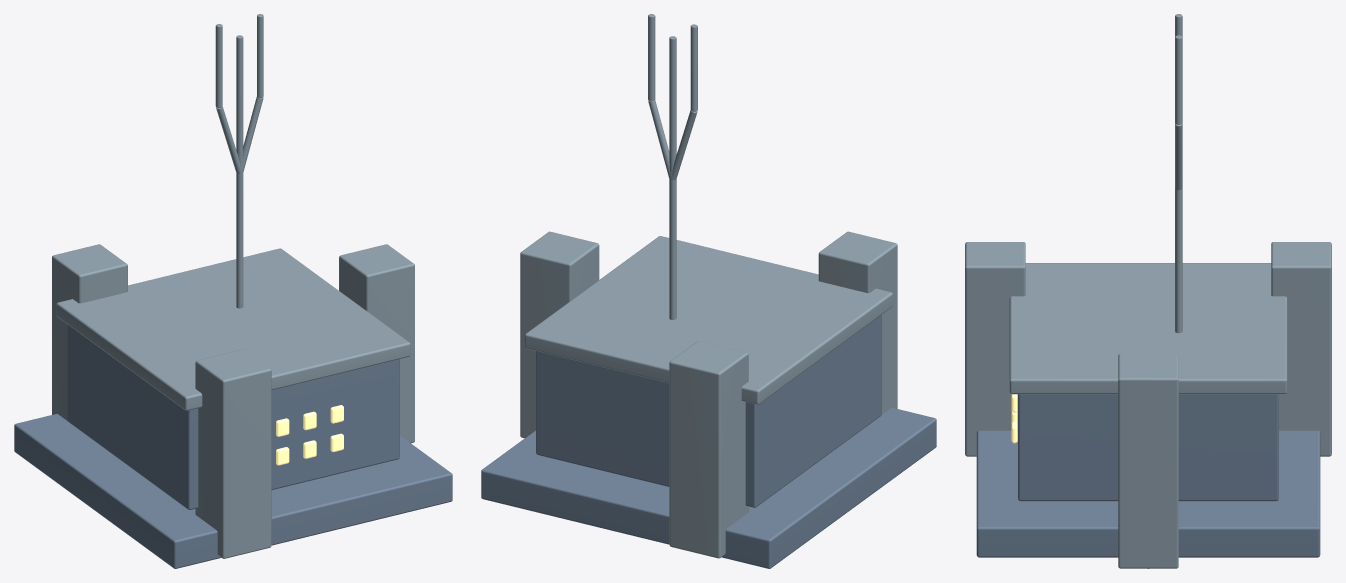
The picture shows the model from 3 angles, left to right: view 1: azimuth 30°, elevation 25°; view 2: azimuth 150°, elevation 25°; view 3: azimuth 270°, elevation 25°; orthographic projection. The views are drawn at different scales.
Visible parts, largest first — view 1: Block roof ledge, Modular block storey, Foundation slab, Block buttress.002, Block buttress, Block buttress.001, Aerial stem, Aerial fork tine, Aerial fork tine.001; view 2: Block roof ledge, Modular block storey, Foundation slab, Block buttress.001, Block buttress, Block buttress.002, Aerial stem, Aerial fork tine, Aerial fork tine.001; view 3: Block roof ledge, Foundation slab, Modular block storey, Block buttress, Block buttress.001, Block buttress.002, Aerial stem, Aerial fork tine.001, Aerial fork.001.
Part boxes in pixels (left/top/right/bottom): Block roof ledge: left=56, top=248, right=410, bottom=410; Modular block storey: left=67, top=324, right=399, bottom=509; Foundation slab: left=14, top=414, right=452, bottom=568; Block buttress.002: left=195, top=349, right=271, bottom=558; Block buttress: left=339, top=244, right=414, bottom=443; Block buttress.001: left=52, top=244, right=127, bottom=420; Aerial stem: left=236, top=35, right=243, bottom=308; Aerial fork tine: left=215, top=24, right=222, bottom=107; Aerial fork tine.001: left=257, top=14, right=263, bottom=97; Block roof ledge: left=525, top=236, right=892, bottom=404; Modular block storey: left=536, top=314, right=881, bottom=507; Foundation slab: left=481, top=407, right=936, bottom=568; Block buttress.001: left=669, top=341, right=748, bottom=558; Block buttress: left=520, top=231, right=599, bottom=438; Block buttress.002: left=818, top=231, right=897, bottom=414; Aerial stem: left=669, top=36, right=676, bottom=319; Aerial fork tine: left=690, top=24, right=697, bottom=111; Aerial fork tine.001: left=648, top=14, right=655, bottom=101; Block roof ledge: left=1009, top=263, right=1287, bottom=394; Foundation slab: left=976, top=430, right=1320, bottom=557; Modular block storey: left=1018, top=394, right=1278, bottom=501; Block buttress: left=1118, top=354, right=1178, bottom=568; Block buttress.001: left=1271, top=242, right=1331, bottom=456; Block buttress.002: left=965, top=242, right=1025, bottom=456; Aerial stem: left=1175, top=123, right=1182, bottom=333; Aerial fork tine.001: left=1175, top=35, right=1182, bottom=124; Aerial fork.001: left=1175, top=124, right=1182, bottom=190.
Bounding box in the file's own units: 2.25 × 3.08 × 2.18.
